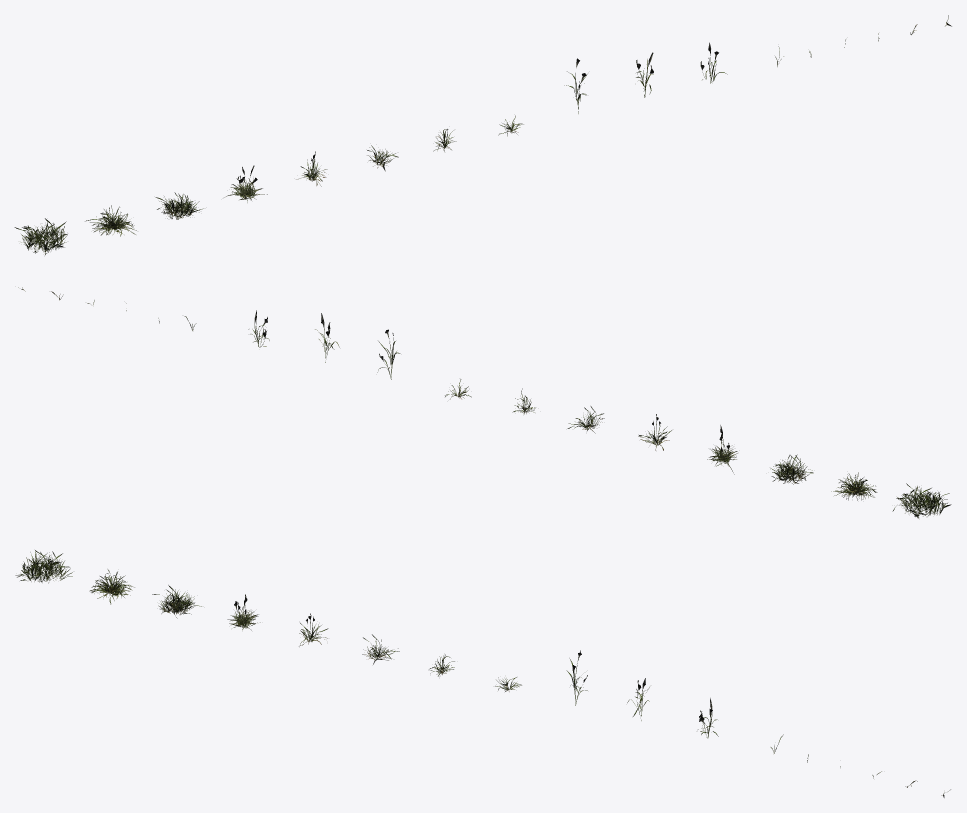
File: grass_medium_01.glb
3 views of the same model, one above another, from view 1: azimuth 30°, elevation 25°; view 2: azimuth 150°, elevation 25°; view 3: azimuth 330°, elevation 25° (orthographic).
Visible parts, largest first — view 1: grass_medium_01_small_a_LOD0; view 2: grass_medium_01_small_a_LOD0; view 3: grass_medium_01_small_a_LOD0.
Part boxes in pixels (box(x1,y1,x2,y2)): grass_medium_01_small_a_LOD0: box(14, 15, 951, 254); grass_medium_01_small_a_LOD0: box(18, 287, 951, 518); grass_medium_01_small_a_LOD0: box(15, 550, 950, 797).
Bounding box in the file's own units: 5.6 × 0.3418 × 0.3266.
1 material, 1 textured.
